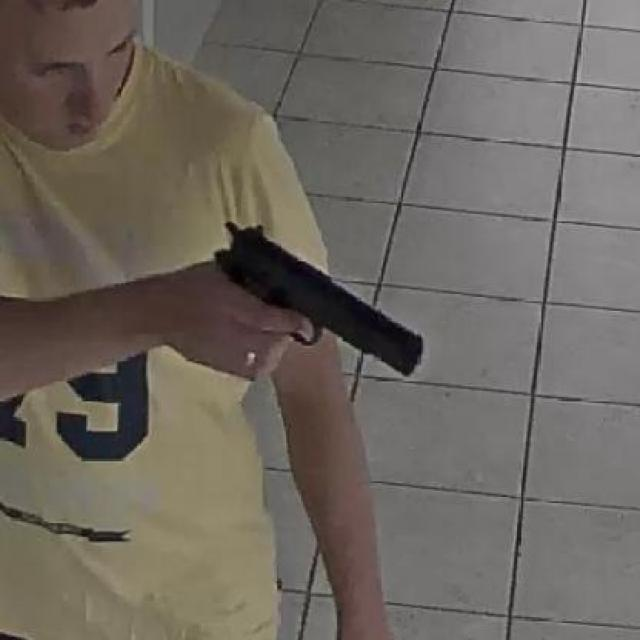gun: (210, 218, 428, 414)
